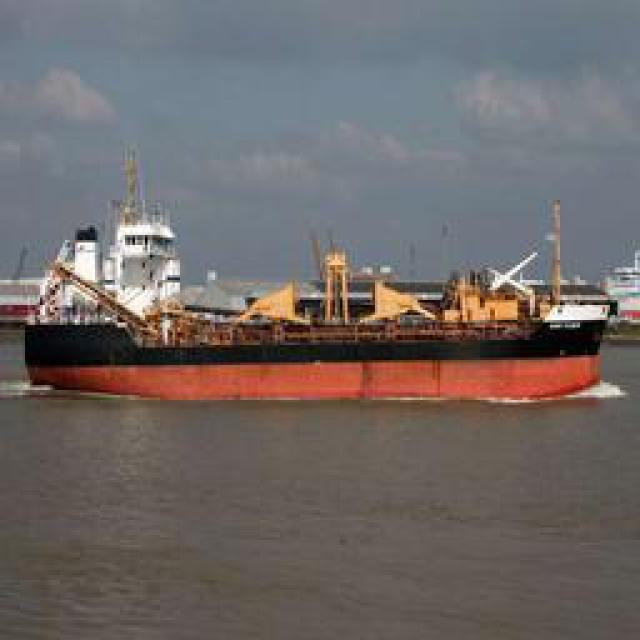Ship: (21, 205, 624, 408)
